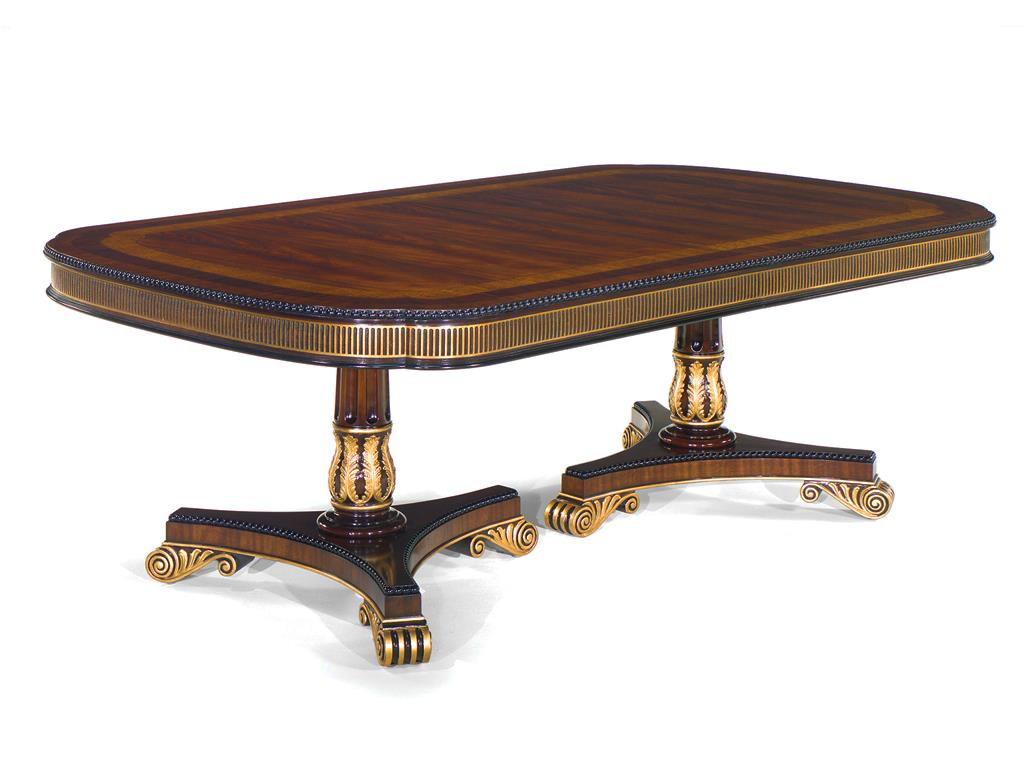Carving Table: (43, 135, 986, 629)
